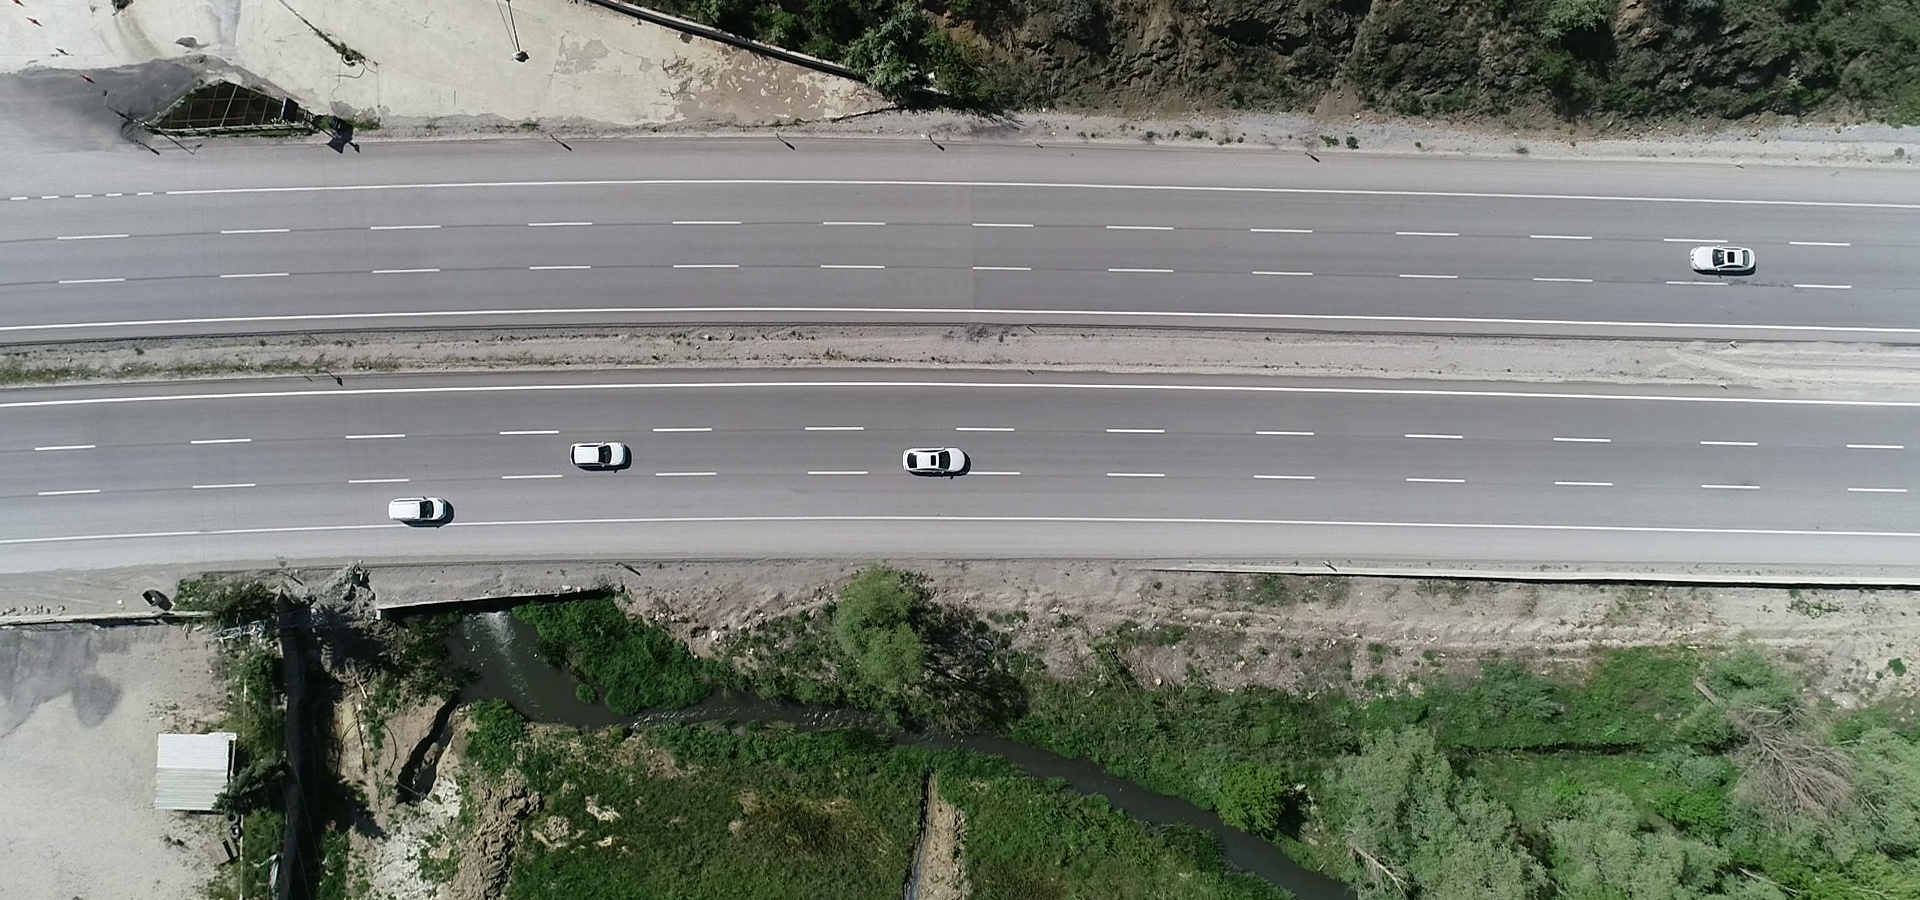araba: (567, 433, 644, 482), (382, 490, 458, 538), (902, 442, 983, 478), (1680, 241, 1756, 269)
